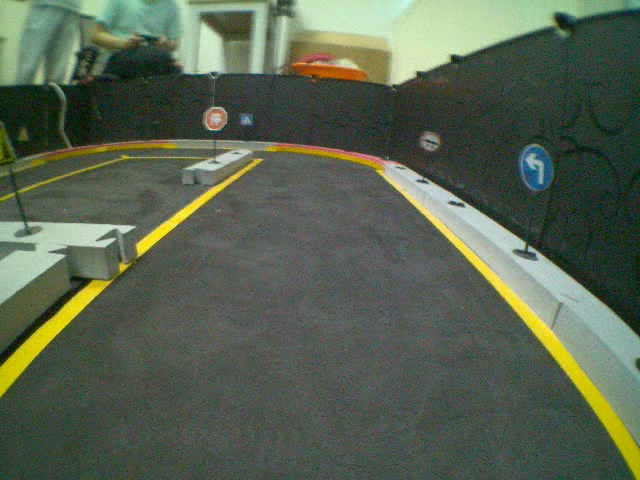Check: (421, 129, 441, 150)
Stop: (201, 107, 228, 132)
crossing: (240, 113, 253, 126)
turn: (518, 143, 556, 193)
